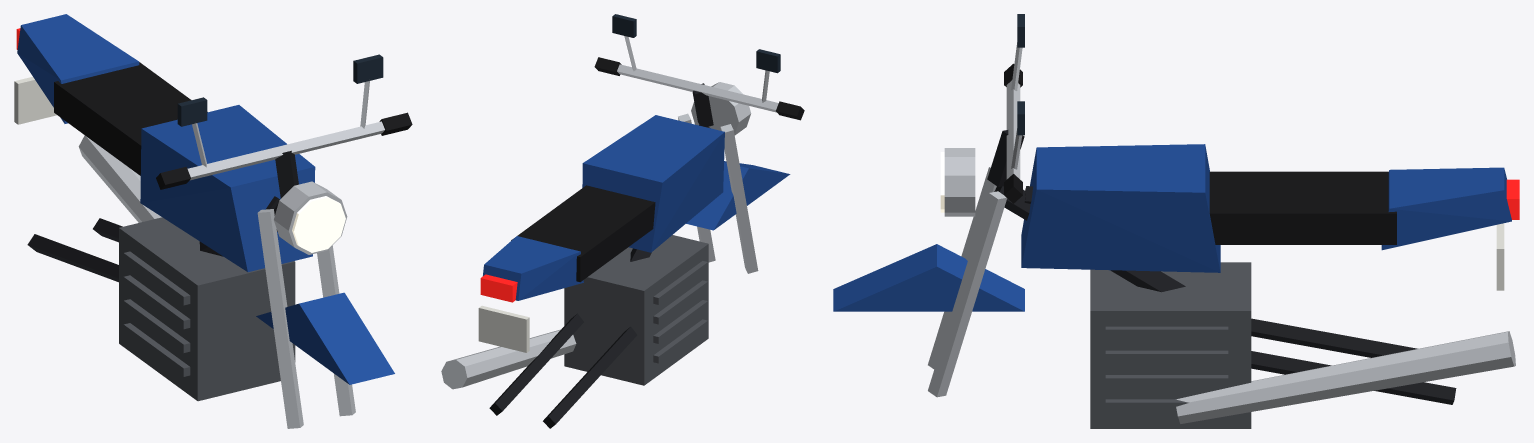
File: veh_bike_body.glb
The picture shows the model from 3 angles, left to right: view 1: azimuth 30°, elevation 25°; view 2: azimuth 150°, elevation 25°; view 3: azimuth 270°, elevation 25°; orthographic projection. The views are drawn at different scales.
Visible parts, largest first — view 1: veh_bike_body; view 2: veh_bike_body; view 3: veh_bike_body.
Part boxes in pixels (box(x1,y1,x2,y2)): veh_bike_body: box(14, 14, 412, 428); veh_bike_body: box(441, 14, 804, 428); veh_bike_body: box(833, 14, 1519, 428).
Bounding box in the file's own units: 0.76 × 0.98 × 1.79.
